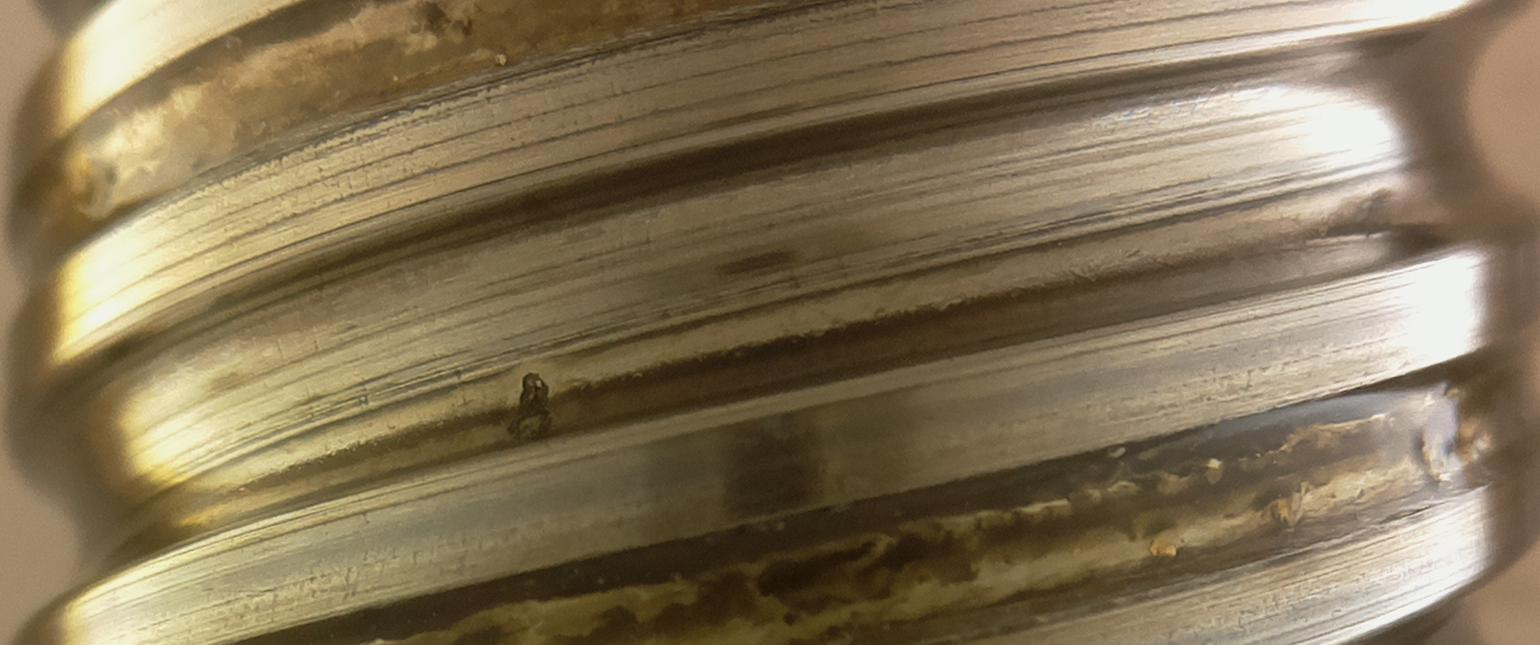pitting: (507, 372, 551, 439)
